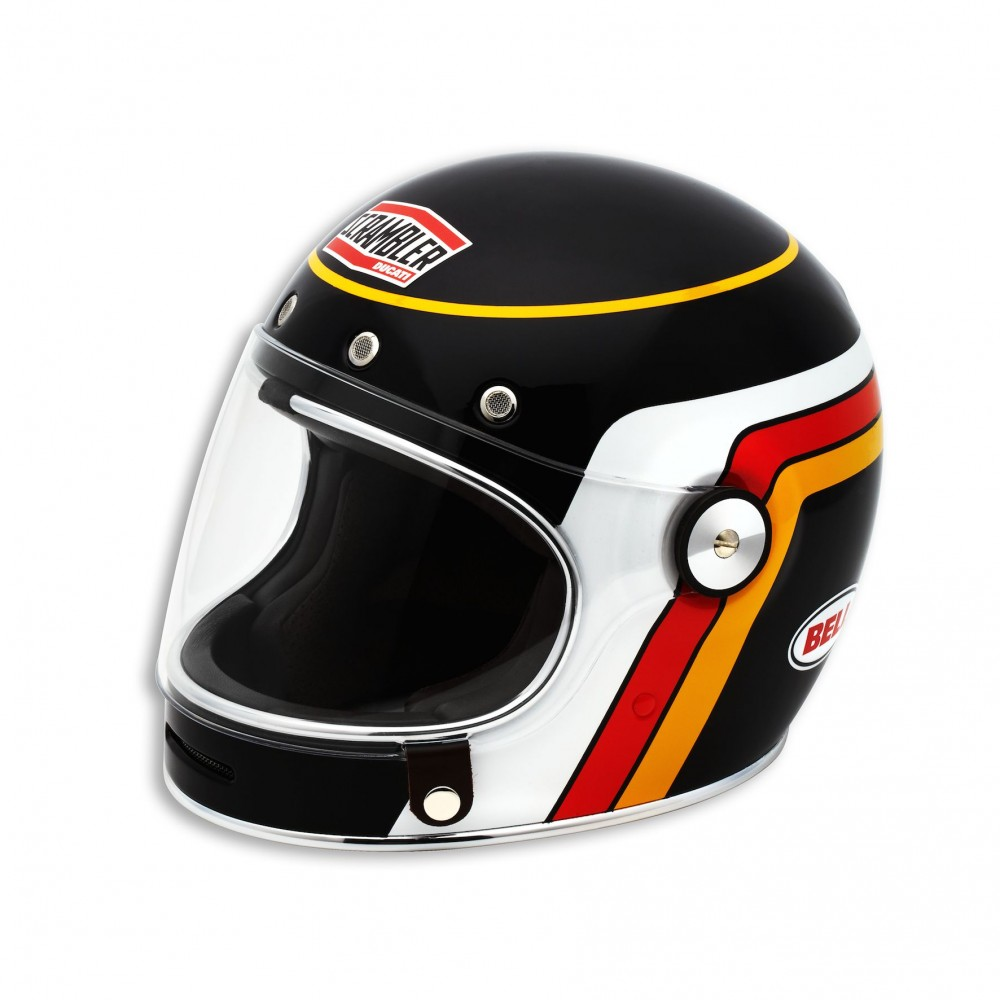helmet: (146, 116, 902, 901)
